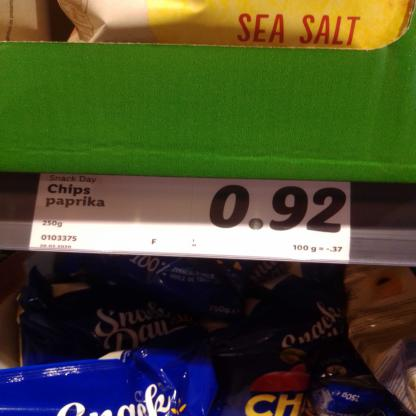prtg: (30, 174, 351, 264)
